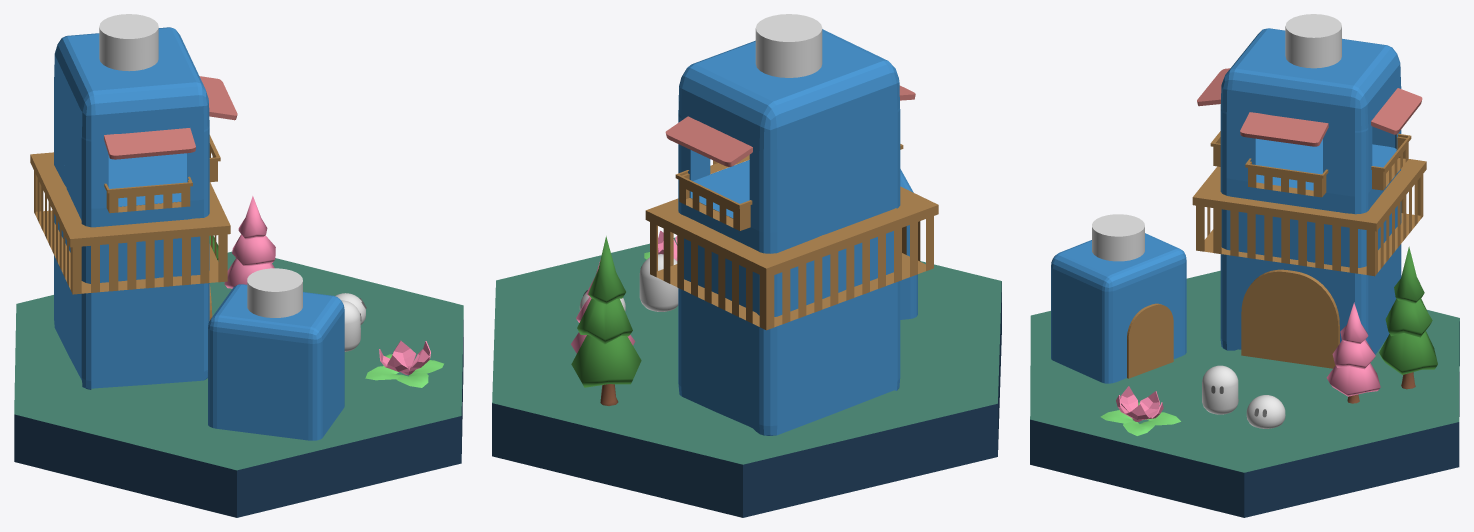
File: Macro - housing lv4.fbx
3 views of the same model, side by side, from view 1: azimuth 30°, elevation 25°; view 2: azimuth 150°, elevation 25°; view 3: azimuth 270°, elevation 25° (orthographic). The views are drawn at different scales.
Visible parts, largest first — view 1: Cylinder.154, Roundcube.001, Roundcube.004, Plane.016, bottle.001, bottle.004, Tree_Spruce_tiny_01.003, Plane.002, Plane.004, pink_water_lily_2_open.002, Plane.006, Plane.003 (+1 smaller); view 2: Cylinder.154, Roundcube.001, Plane.016, Tree_Spruce_tiny_01.001, bottle.001, Plane.001, Plane.005, Sphere.001, Roundcube.004; view 3: Cylinder.154, Roundcube.001, Roundcube.004, Plane.016, Cube.003, Tree_Spruce_tiny_01.001, Tree_Spruce_tiny_01.003, Cube.004, bottle.001, bottle.004, Plane.003, Plane.007 (+7 smaller).
Part boxes in pixels (box(x1,y1,x2,y2)): Cylinder.154: box(14, 251, 463, 517); Roundcube.001: box(54, 27, 209, 389); Roundcube.004: box(208, 284, 344, 440); Plane.016: box(30, 152, 230, 294); bottle.001: box(99, 14, 158, 71); bottle.004: box(247, 268, 302, 317); Tree_Spruce_tiny_01.003: box(224, 196, 275, 288); Plane.002: box(104, 128, 195, 159); Plane.004: box(104, 176, 192, 213); pink_water_lily_2_open.002: box(379, 340, 430, 375); Plane.006: box(365, 354, 443, 387); Plane.003: box(199, 76, 237, 120); Cylinder.154: box(492, 237, 1001, 517); Roundcube.001: box(678, 29, 900, 435); Plane.016: box(645, 186, 938, 330); Tree_Spruce_tiny_01.001: box(571, 236, 641, 405); bottle.001: box(755, 14, 822, 77); Plane.001: box(665, 116, 752, 166); Plane.005: box(675, 170, 752, 230); Sphere.001: box(639, 254, 678, 311); Roundcube.004: box(900, 169, 917, 319); Cylinder.154: box(1030, 270, 1459, 517); Roundcube.001: box(1220, 28, 1401, 354); Roundcube.004: box(1051, 233, 1186, 383); Plane.016: box(1192, 159, 1426, 276); Cube.003: box(1241, 269, 1339, 368); Tree_Spruce_tiny_01.001: box(1379, 246, 1437, 389); Tree_Spruce_tiny_01.003: box(1326, 302, 1380, 403); Cube.004: box(1127, 303, 1173, 378); bottle.001: box(1285, 14, 1341, 68); bottle.004: box(1092, 214, 1144, 261); Plane.003: box(1240, 112, 1328, 146); Plane.007: box(1245, 158, 1328, 197).
Bounding box in the file's own units: 197 × 157 × 172.
